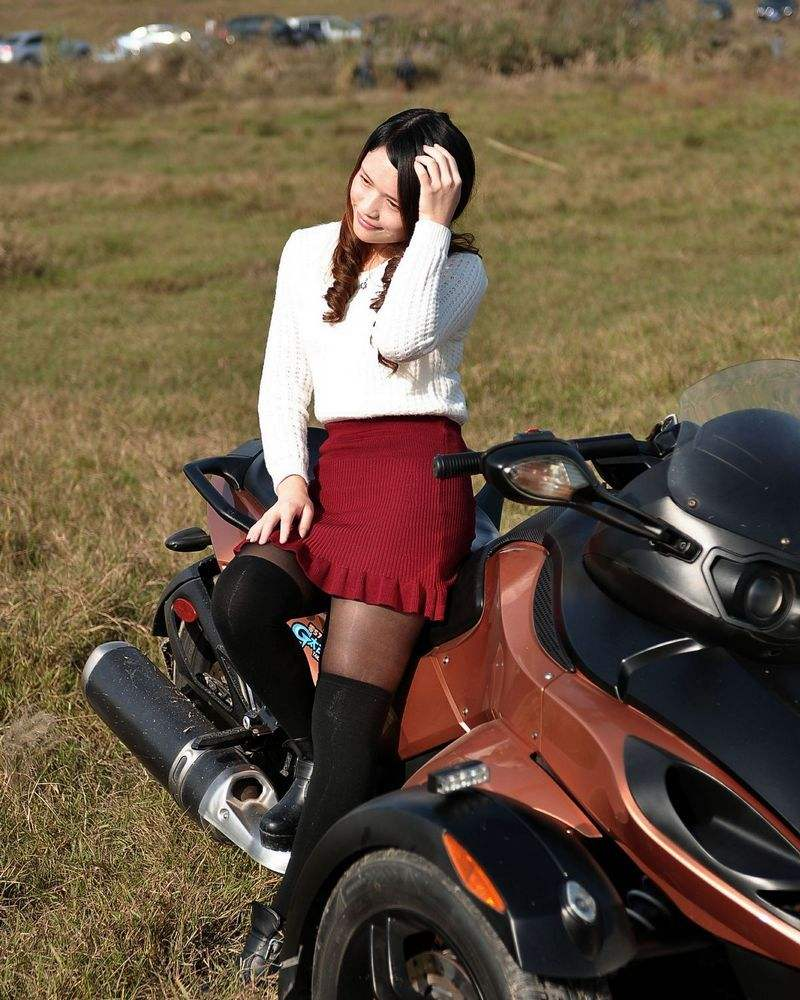person: (151, 89, 658, 734)
